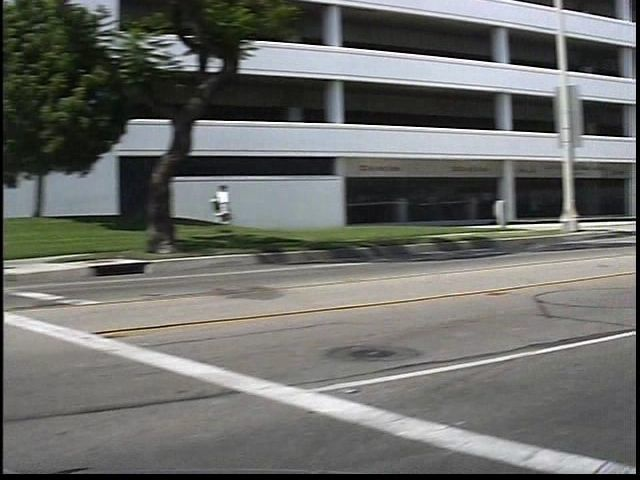person: (227, 177, 255, 242)
